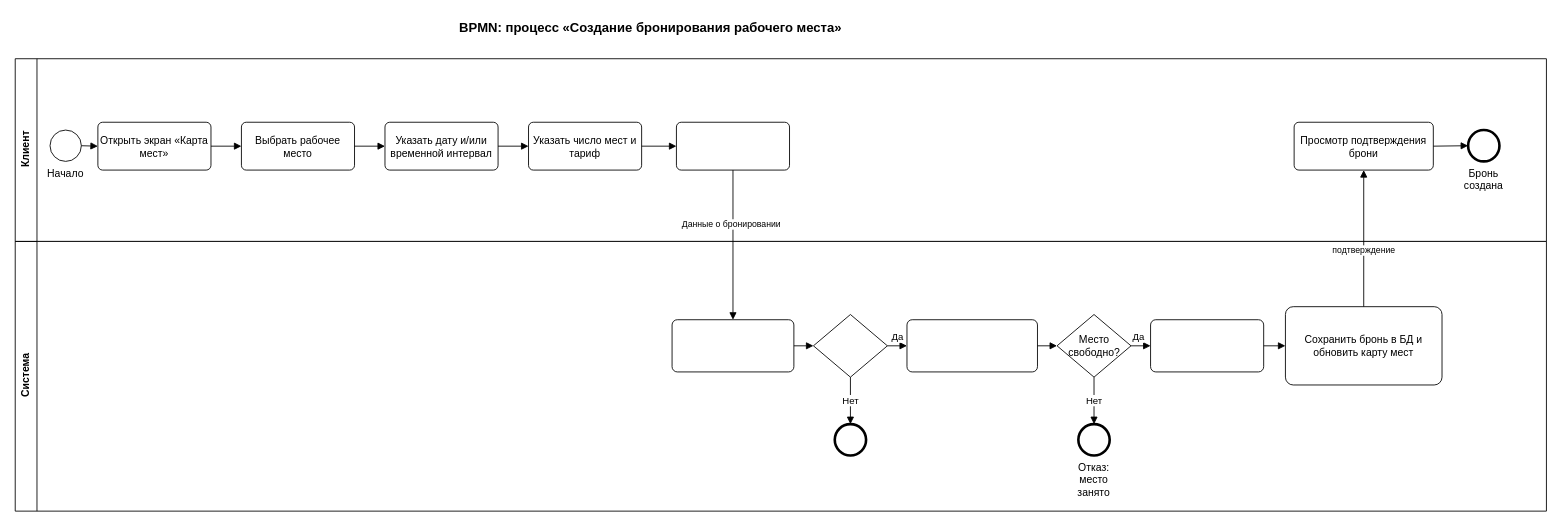
Image size: 1562x526. Some labels were removed from this diagram. Each missing label, with the centre of its shape:
"Данные верны?" belongs at pixel 850 345.
"Нажать «Забронировать»" belongs at pixel 733 145.
"Отказ: неверные данные" belongs at pixel 850 439.
"Проверить доступность (слоты, вместимость)" belongs at pixel 971 345.
"Проверить корректность введённых данных" belongs at pixel 732 345.
"Рассчитать стоимость брони" belongs at pixel 1207 345.
